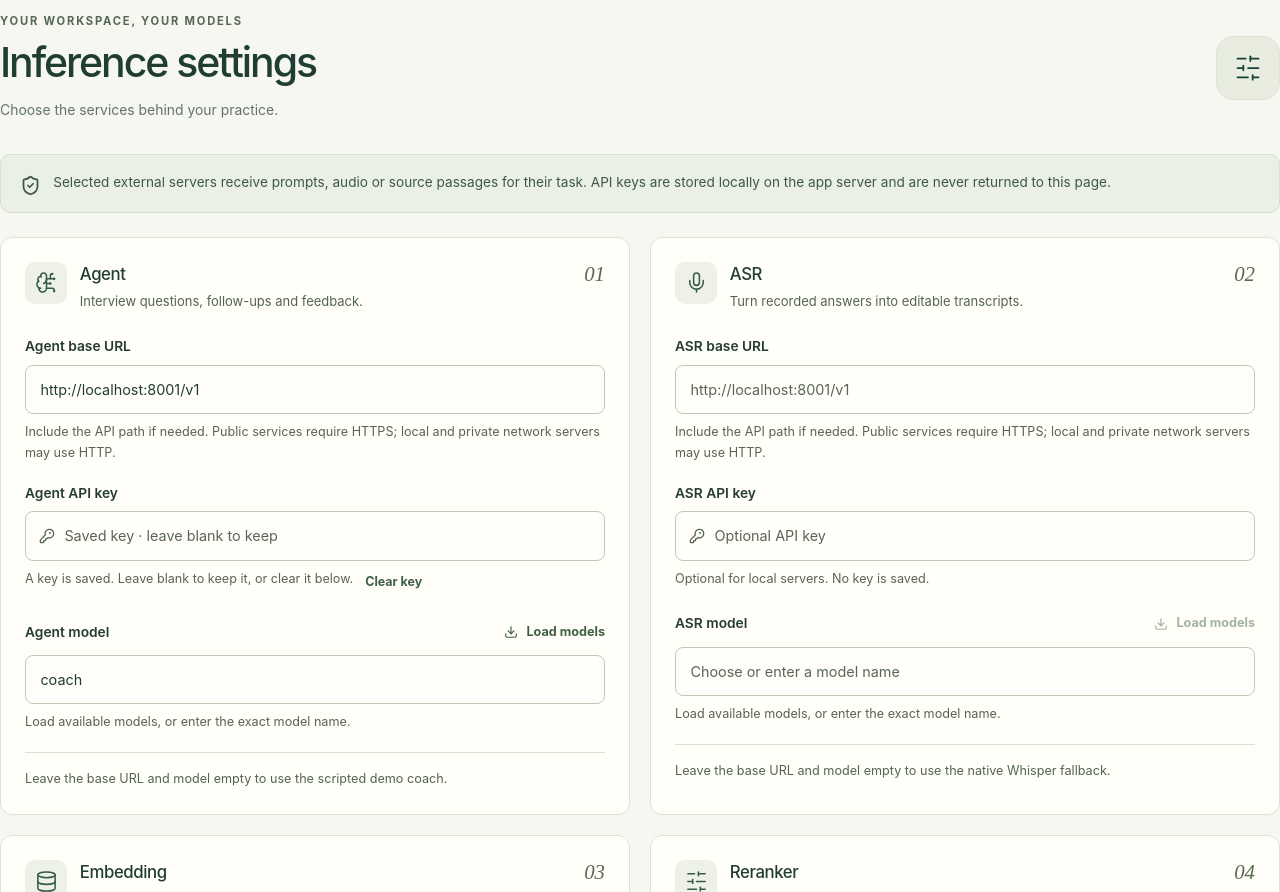
it: inference settings › keeps saved keys redacted and retains them when editing a model at the same URL
Check: the field labelled "Agent base URL" is shown, box [25, 365, 605, 414]
Check: the password field labelled "Agent API key" is empty, box [25, 512, 605, 561]
Replace the text in the field labelled "Agent model" with "coach-new" at [315, 680], box [25, 655, 605, 704]
(page scrolled)
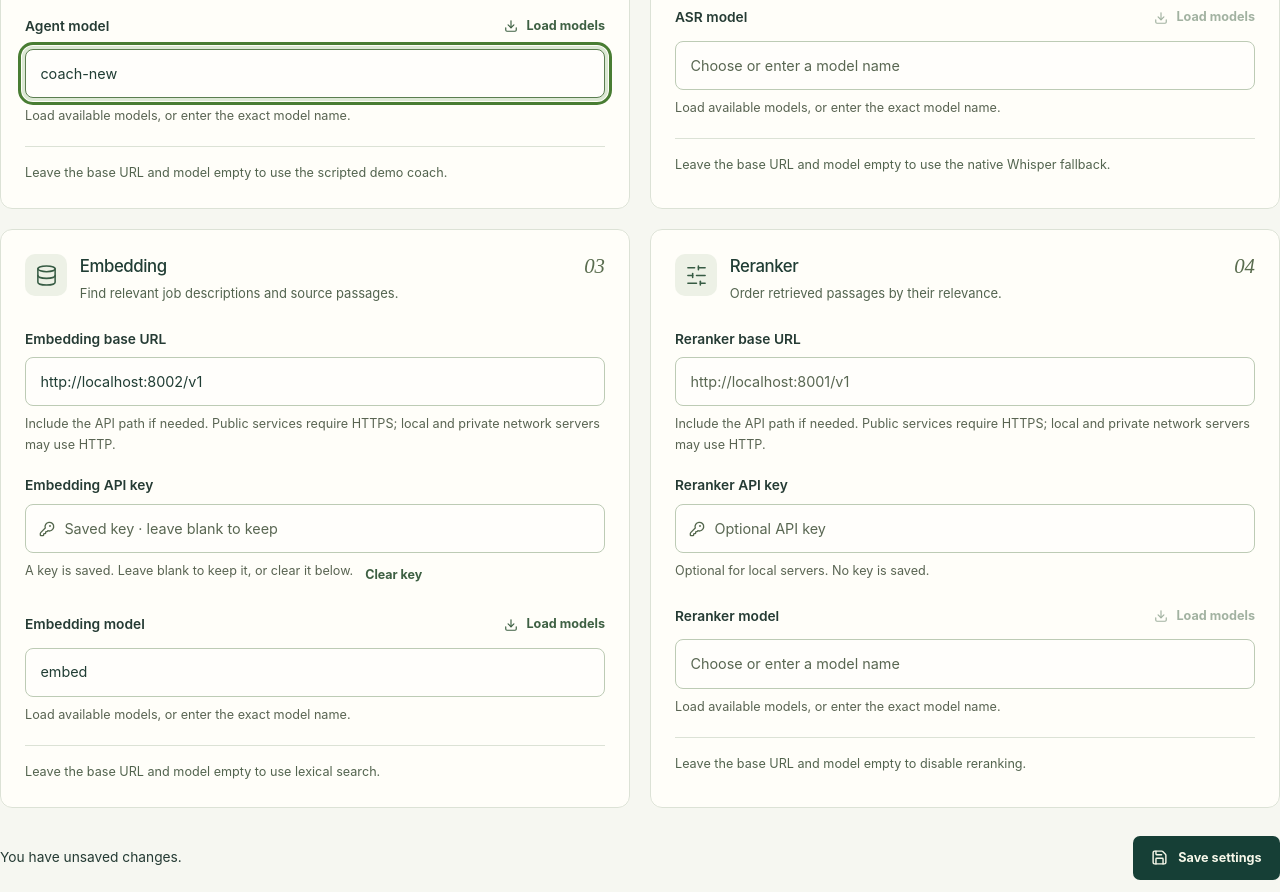
Click the button "Save settings" at [1206, 858], box [1133, 836, 1279, 880]
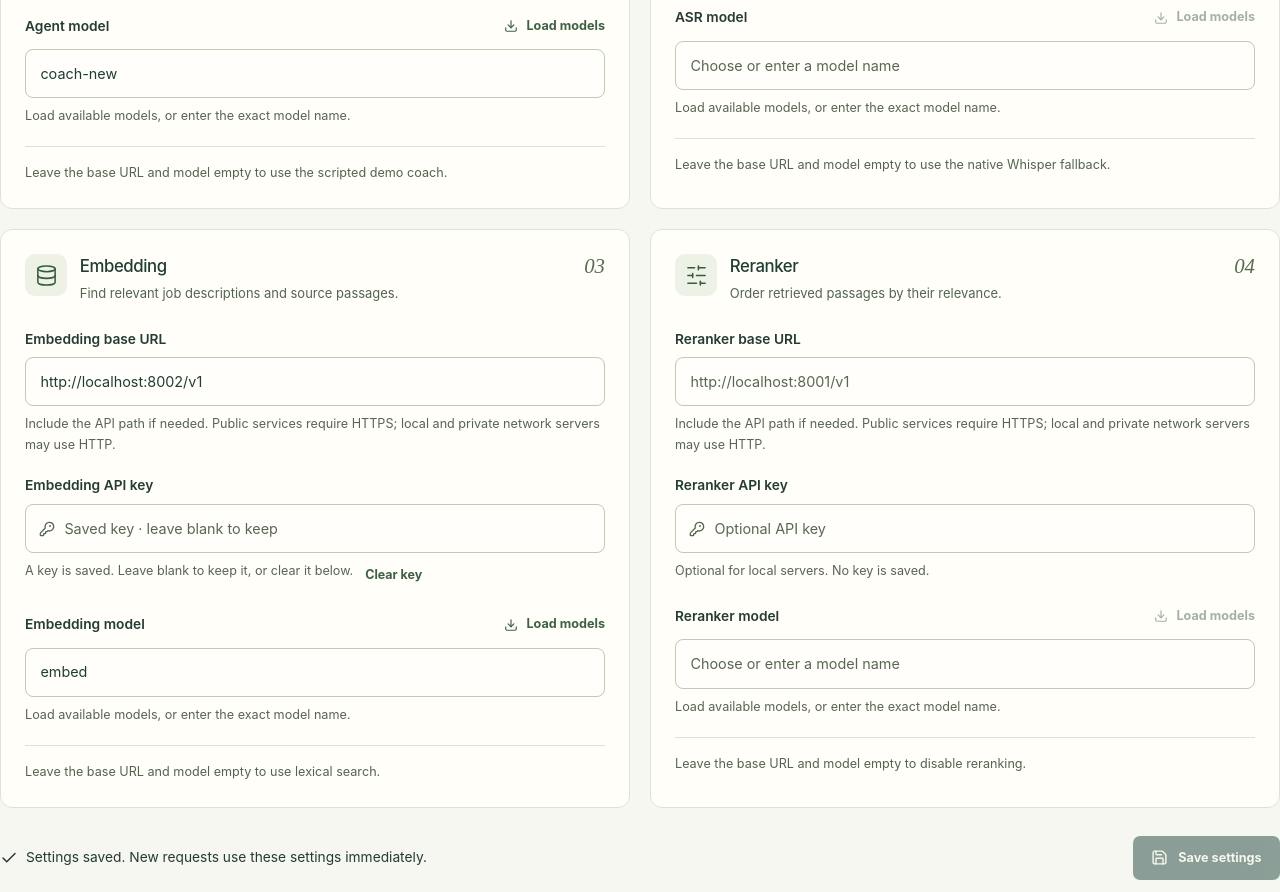
Check: the text "Settings saved. New requests use these settings immediately." is shown, box [26, 847, 427, 868]
Check: the button "Save settings" is disabled, box [1133, 836, 1279, 880]
